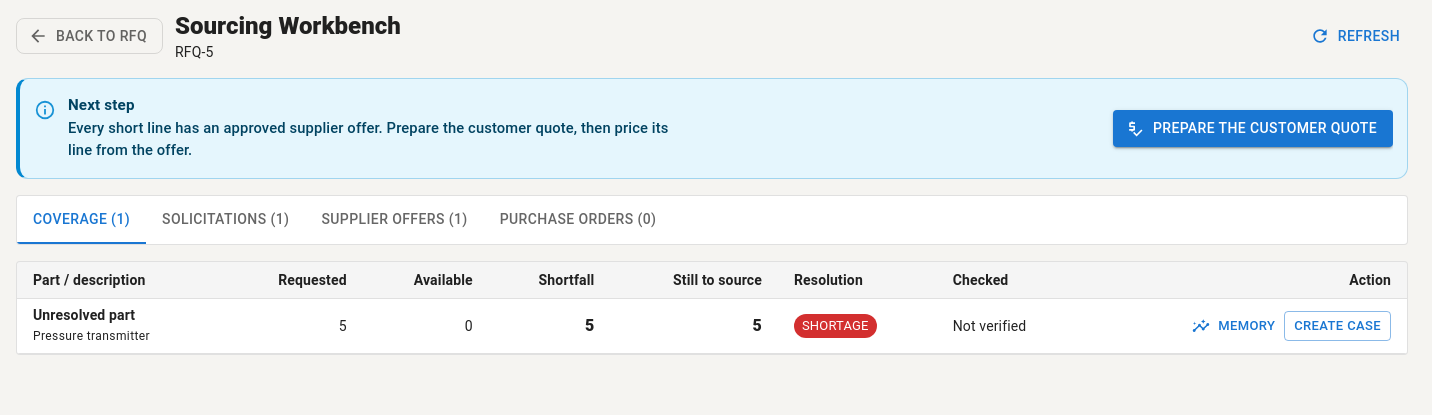
SourcingWorkbenchPage — disabled controls print their reason › Capture response says it waits for delivery and links to the Supplier Quote Inbox
Click the tab "Solicitations (1)": (226, 220) [146,196,305,244]
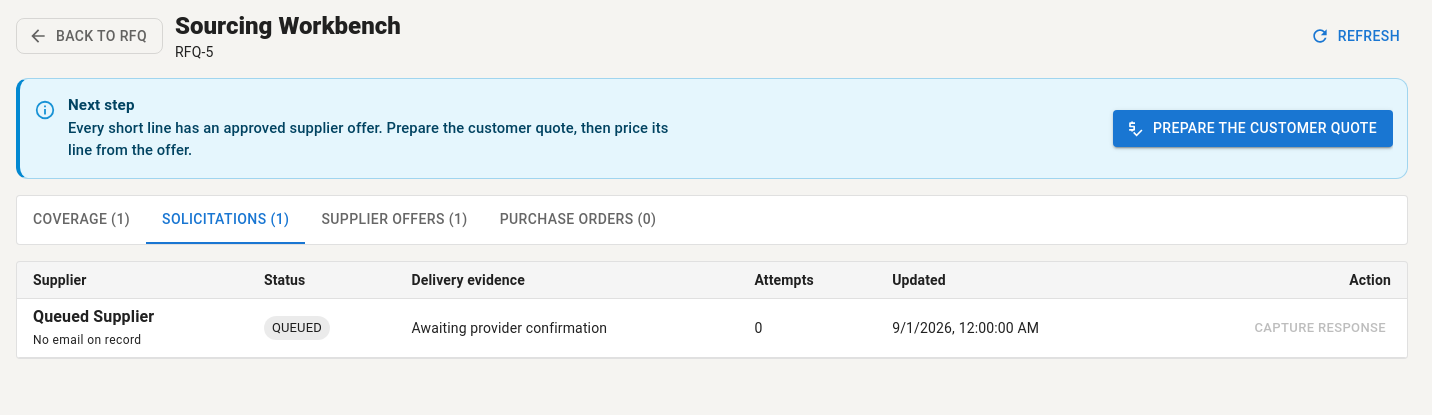
Check: the button "Capture response" is disabled
Hover over the element showing "Capture response": (1320, 328) [1250,313,1391,343]
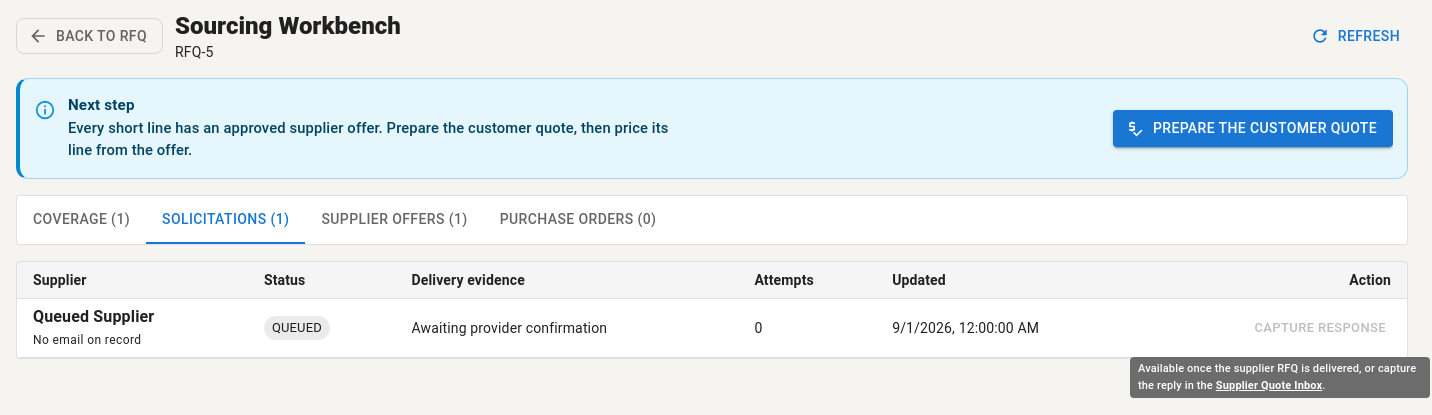
Check: the text "Available once the supplier RFQ is delivered" is shown, box [1138,362,1416,392]
